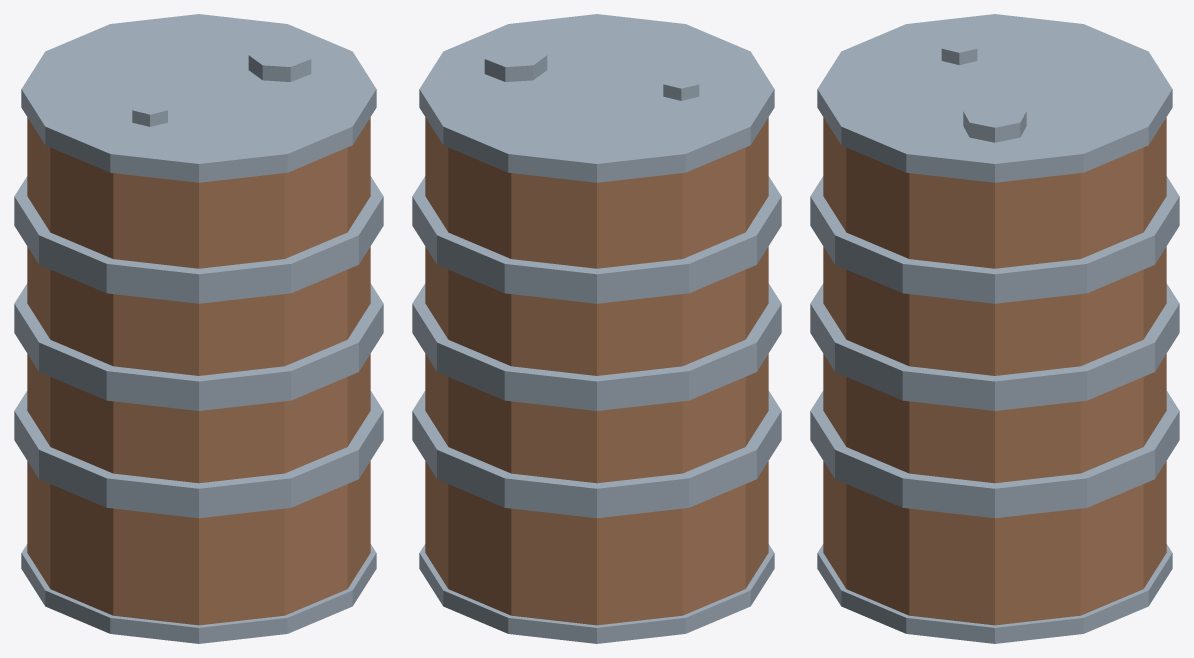
The model's file is oil_barrel_medium.glb.
3 renders of one model, left to right at view 1: azimuth 30°, elevation 25°; view 2: azimuth 150°, elevation 25°; view 3: azimuth 270°, elevation 25°, orthographic.
Visible parts, largest first — view 1: rusted-oil-barrel_0, rusted-oil-barrel_1; view 2: rusted-oil-barrel_0, rusted-oil-barrel_1; view 3: rusted-oil-barrel_0, rusted-oil-barrel_1.
Part boxes in pixels (x1,y1,x2,y2): rusted-oil-barrel_0: (27, 117, 370, 625); rusted-oil-barrel_1: (14, 14, 383, 643); rusted-oil-barrel_0: (425, 117, 768, 625); rusted-oil-barrel_1: (412, 14, 781, 643); rusted-oil-barrel_0: (823, 117, 1166, 625); rusted-oil-barrel_1: (810, 14, 1179, 643).
Size of the model in its own units: 1.35 by 2 by 1.35.
